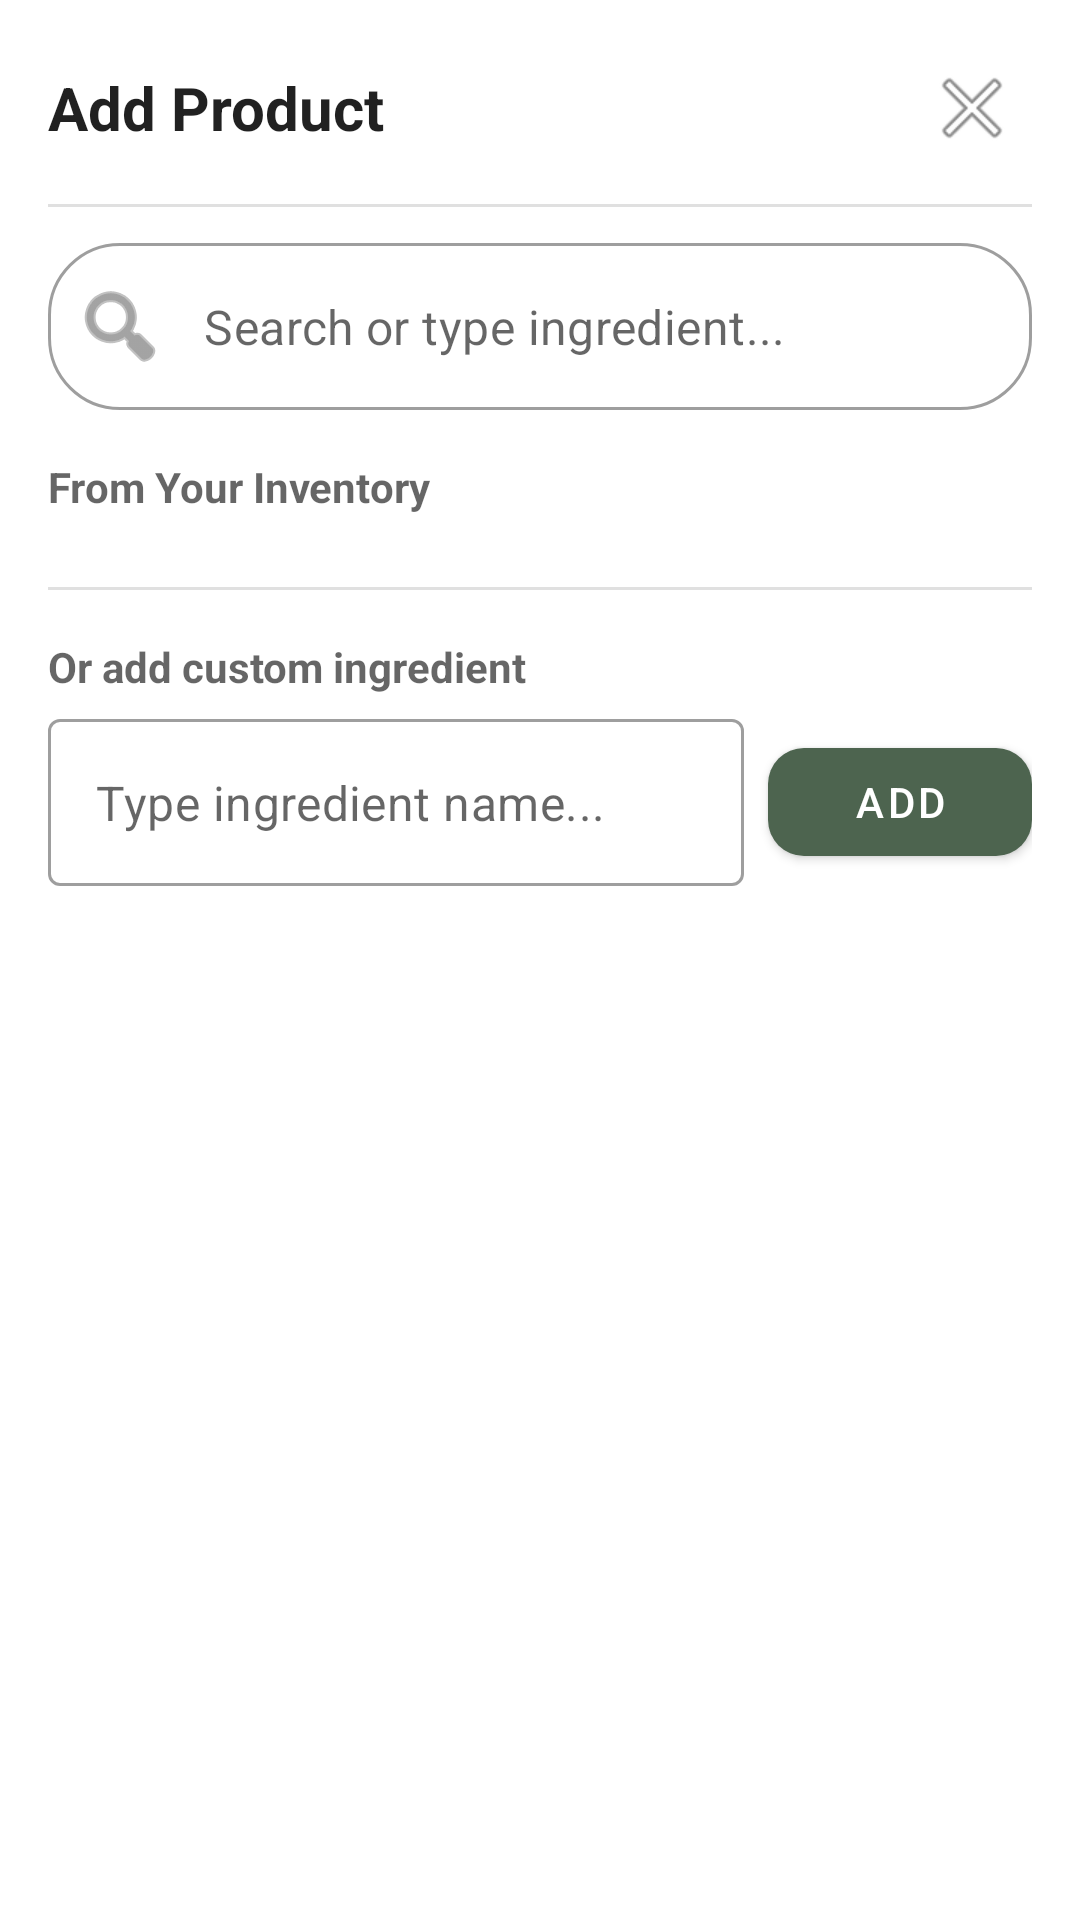

Where to tap for icons on this 1080x1920 app screen, as (x=x, y=y):
Close: (x=972, y=108)
